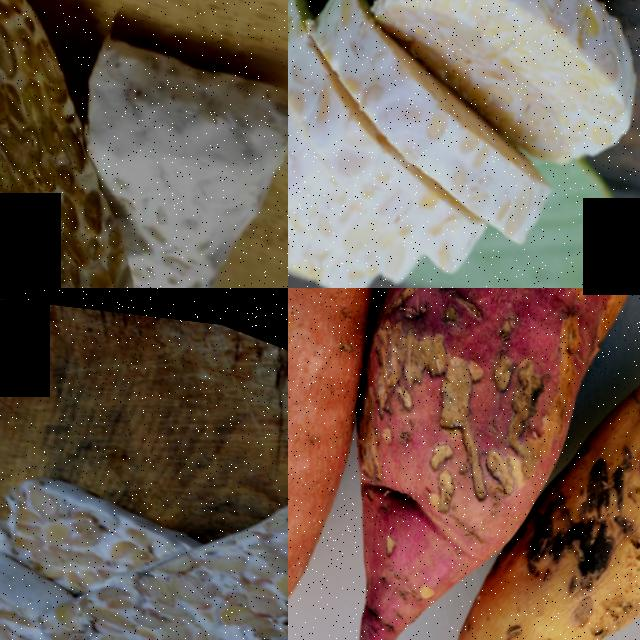sweet potato: (288, 288, 600, 640), (288, 288, 455, 640), (535, 288, 640, 640), (421, 554, 622, 640)
tempeh: (60, 2, 288, 260), (359, 0, 640, 175), (0, 0, 119, 275), (27, 507, 219, 640), (183, 432, 288, 640), (0, 152, 151, 288), (0, 460, 122, 590), (0, 526, 69, 640)
